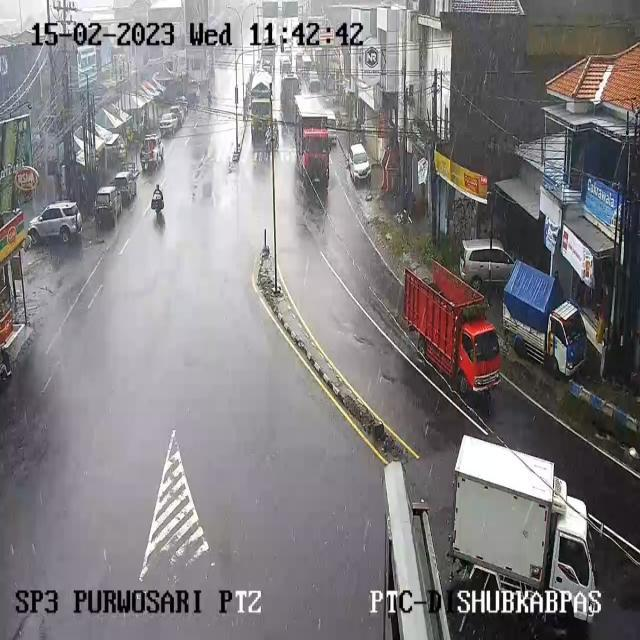Car: (459, 231, 513, 283), (26, 202, 81, 246), (94, 186, 124, 226), (347, 144, 371, 184), (112, 170, 138, 204), (140, 134, 164, 170), (159, 111, 179, 132), (324, 111, 337, 139), (169, 105, 186, 126), (300, 54, 313, 78), (174, 96, 188, 115), (280, 57, 292, 76), (308, 78, 322, 94), (261, 58, 272, 73)
Motorbike: (148, 183, 168, 219), (266, 128, 278, 148)
Truck: (445, 438, 597, 632), (406, 272, 504, 396), (504, 261, 587, 380), (298, 126, 332, 188), (251, 76, 272, 128), (282, 80, 302, 109)
